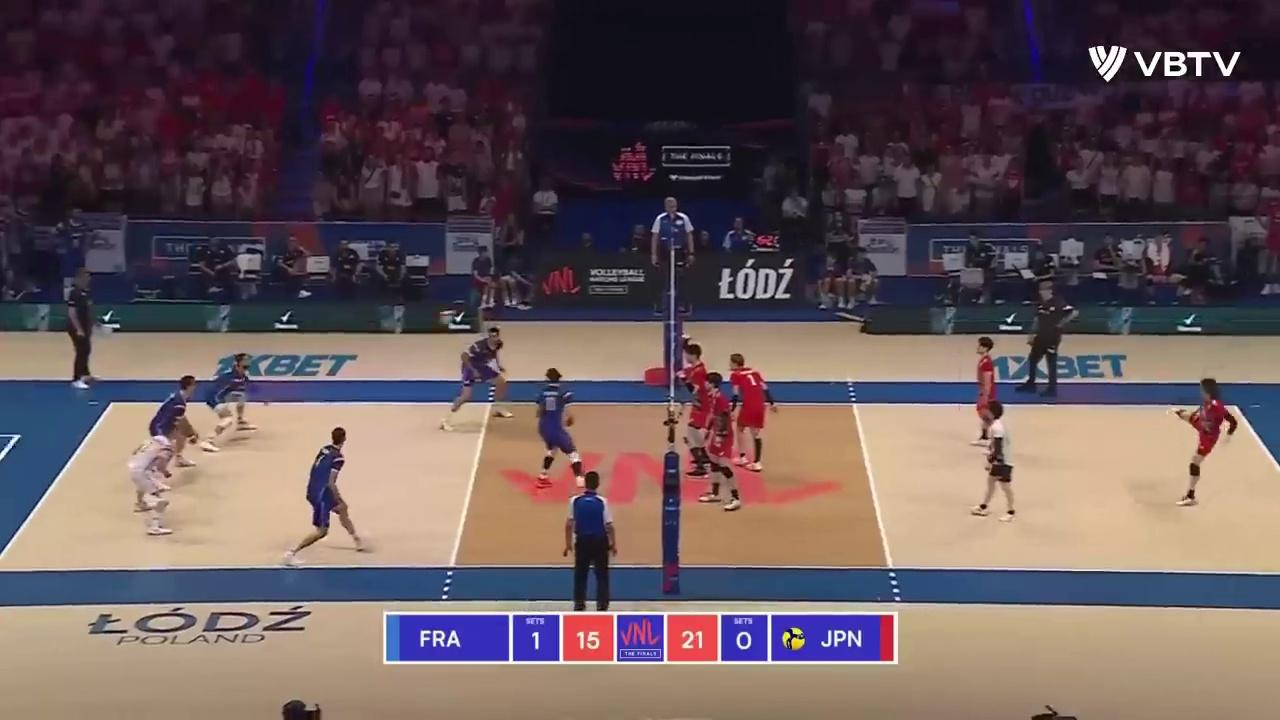ball: (438, 308, 456, 324)
